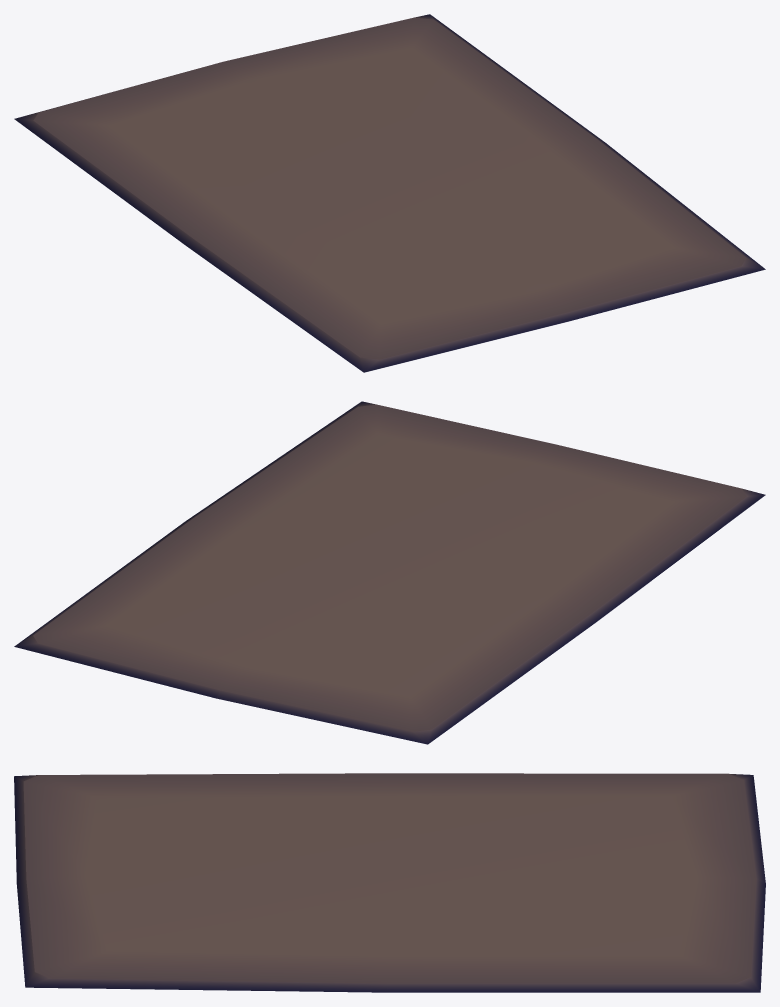
Rendered from TSP_Rug_03A.fbx.
The picture shows the model from 3 angles, top to bottom: view 1: azimuth 30°, elevation 25°; view 2: azimuth 150°, elevation 25°; view 3: azimuth 270°, elevation 25°; orthographic projection. The views are drawn at different scales.
Visible parts, largest first — view 1: TSP_Rug_03A; view 2: TSP_Rug_03A; view 3: TSP_Rug_03A.
Part boxes in pixels (x1=…): TSP_Rug_03A: x1=14, y1=14, x2=765, y2=372; TSP_Rug_03A: x1=14, y1=401, x2=765, y2=744; TSP_Rug_03A: x1=14, y1=773, x2=765, y2=992.
Bounding box in the file's own units: 1.35 × 0.0225 × 1.97.
